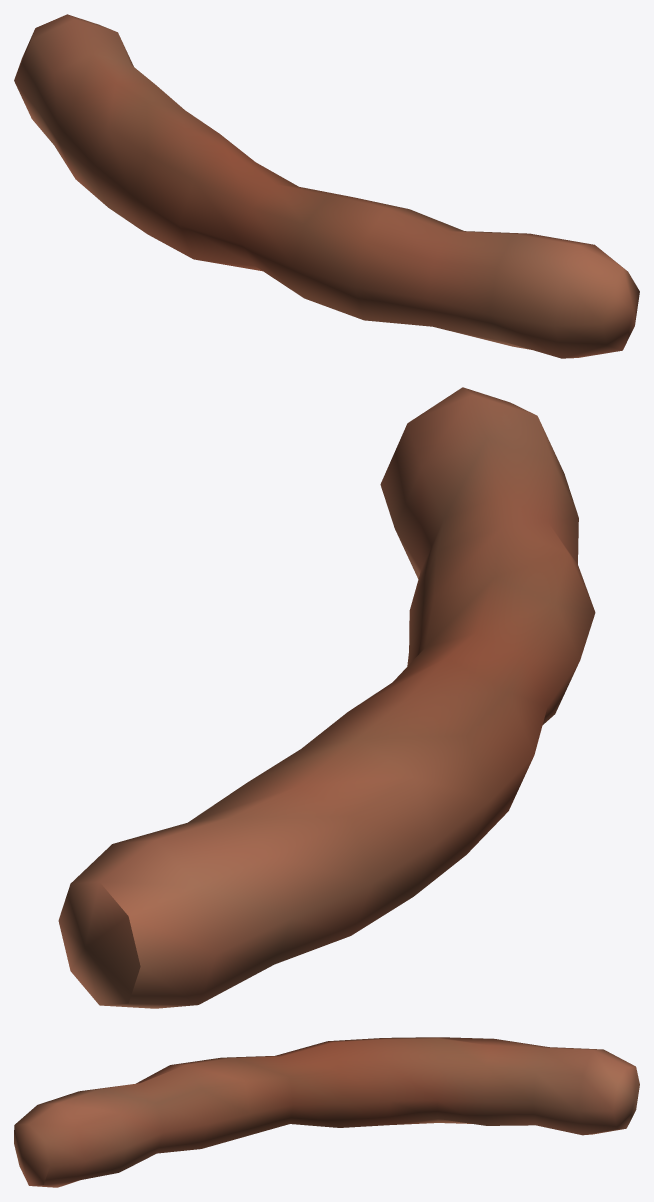
The model's file is microscopic-bacteria-rod-bacterium_v3.glb.
3 renders of one model, top to bottom at view 1: azimuth 30°, elevation 25°; view 2: azimuth 150°, elevation 25°; view 3: azimuth 270°, elevation 25°, orthographic. The views are drawn at different scales.
Parts seen in each view (by area): view 1: Rod Bacterium_v3; view 2: Rod Bacterium_v3; view 3: Rod Bacterium_v3.
Boxes of the visible parts, box(x1,y1,x2,y2) form: Rod Bacterium_v3: box(14, 14, 639, 358); Rod Bacterium_v3: box(58, 387, 595, 1008); Rod Bacterium_v3: box(14, 1037, 639, 1187).
Size of the model in its own units: 0.1193 by 0.0446 by 0.3.
